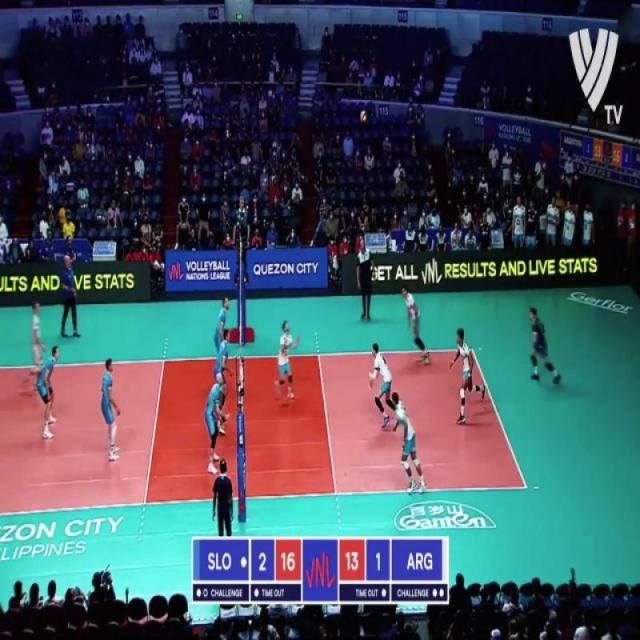volleyball: (361, 107, 368, 125)
